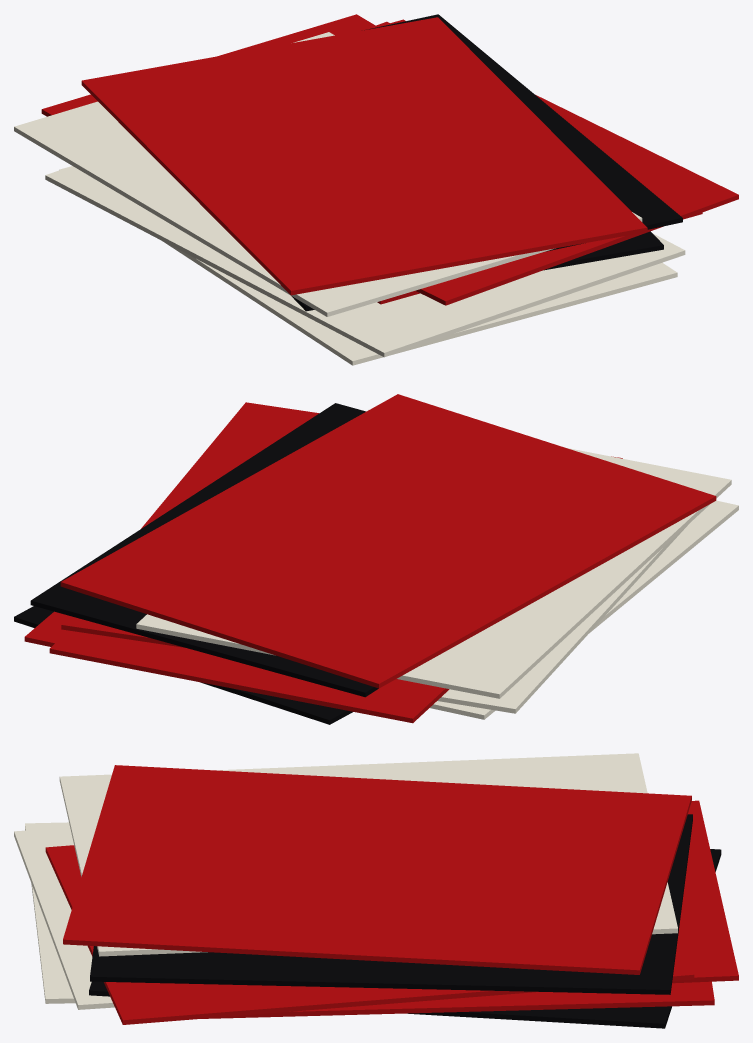
The model's file is Item_OR_Cards_18.glb.
The picture shows the model from 3 angles, top to bottom: view 1: azimuth 30°, elevation 25°; view 2: azimuth 150°, elevation 25°; view 3: azimuth 270°, elevation 25°; orthographic projection. The views are drawn at different scales.
Parts seen in each view (by area): view 1: Item_OR_Cards_18; view 2: Item_OR_Cards_18; view 3: Item_OR_Cards_18.
Boxes of the visible parts, x1=… form: Item_OR_Cards_18: x1=14, y1=14, x2=738, y2=365; Item_OR_Cards_18: x1=14, y1=394, x2=738, y2=724; Item_OR_Cards_18: x1=14, y1=753, x2=738, y2=1028.
Bounding box in the file's own units: 0.0913 × 0.0088 × 0.1097.
